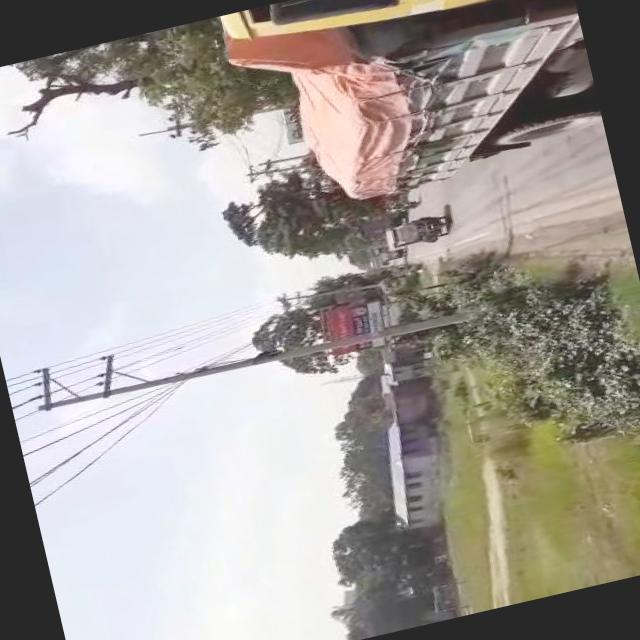motorcycle: (380, 210, 448, 250), (384, 193, 418, 213), (378, 244, 402, 258)
truck: (217, 0, 603, 218)
